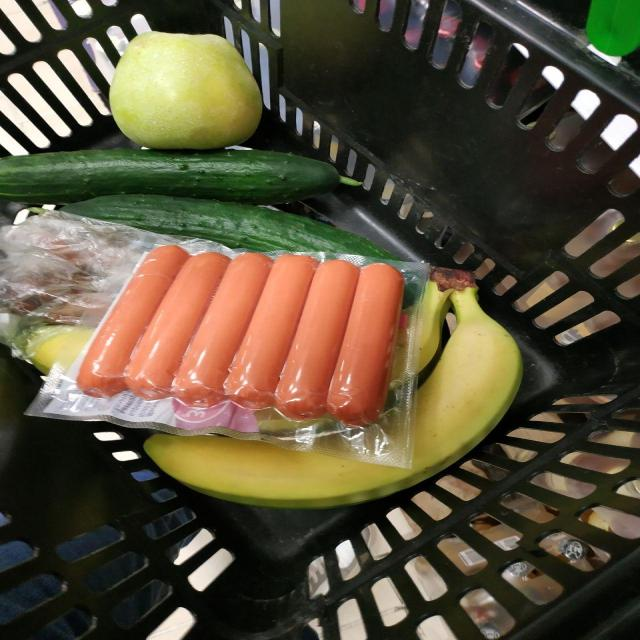Apple: (110, 31, 262, 149)
Banana: (145, 288, 522, 509), (418, 268, 473, 376), (22, 326, 93, 374)
Cucumber: (60, 194, 397, 260), (0, 150, 342, 204)
Sausages: (28, 245, 428, 468)
